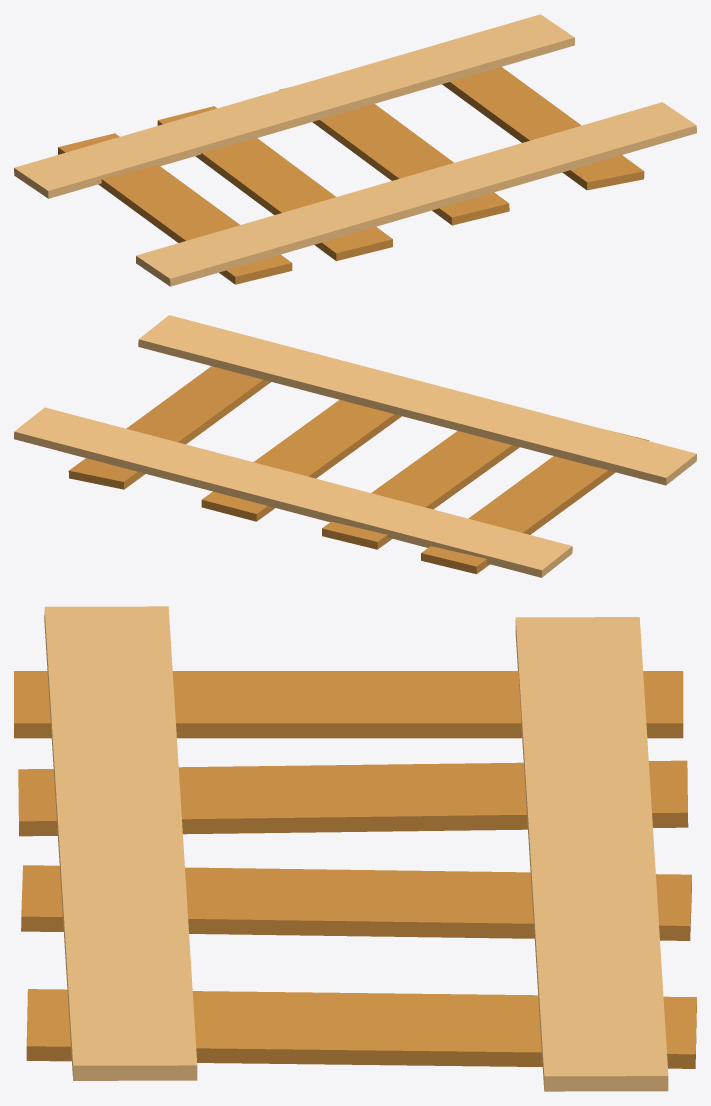
The model's file is railway.glb.
3 renders of one model, top to bottom at view 1: azimuth 30°, elevation 25°; view 2: azimuth 150°, elevation 25°; view 3: azimuth 270°, elevation 25°, orthographic. The views are drawn at different scales.
Parts seen in each view (by area): view 1: group189436233, group1827257814, group542642967, group92416908, group846477578; view 2: group189436233, group846477578, group92416908, group542642967, group1827257814; view 3: group189436233, group92416908, group542642967, group1827257814, group846477578.
Boxes of the visible parts, box(x1,y1,x2,y2) form: group189436233: box(14, 14, 696, 286); group1827257814: box(157, 106, 392, 261); group542642967: box(58, 133, 292, 284); group92416908: box(442, 67, 644, 190); group846477578: box(279, 87, 509, 225); group189436233: box(14, 315, 696, 577); group846477578: box(201, 400, 401, 521); group92416908: box(68, 366, 270, 489); group542642967: box(421, 430, 649, 574); group1827257814: box(322, 431, 519, 549); group189436233: box(44, 606, 668, 1091); group92416908: box(26, 989, 696, 1068); group542642967: box(14, 671, 683, 738); group1827257814: box(18, 760, 688, 836); group846477578: box(21, 865, 691, 940).
Size of the model in its own units: 0.757 by 0.0454 by 0.4402.
